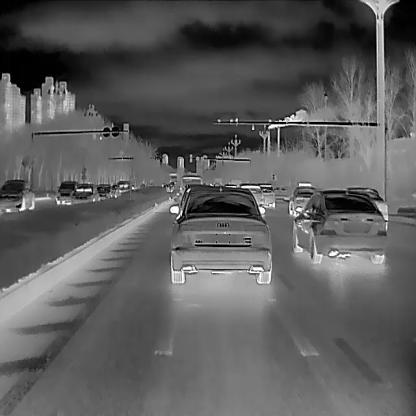car: (169, 184, 271, 284), (290, 189, 387, 264), (347, 186, 386, 232), (0, 179, 34, 212), (289, 181, 319, 215), (236, 183, 263, 213), (179, 174, 202, 201), (70, 182, 98, 204), (55, 180, 76, 204), (258, 183, 274, 206), (94, 184, 114, 199)
